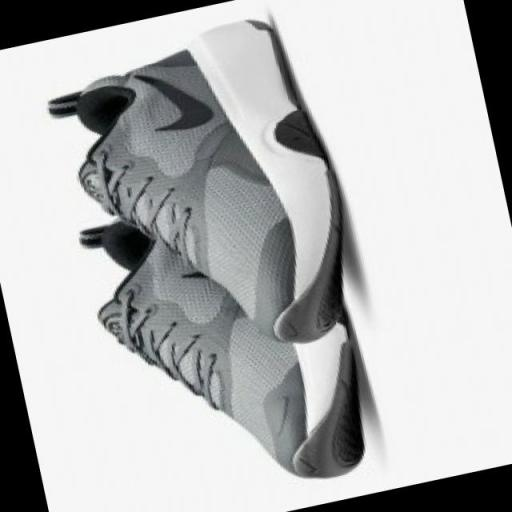Nike: (132, 57, 221, 140)
